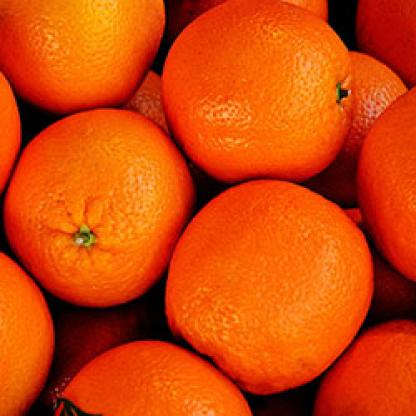orange: (170, 172, 371, 410), (0, 101, 216, 309), (160, 0, 336, 190), (0, 2, 183, 114), (48, 333, 252, 414)
